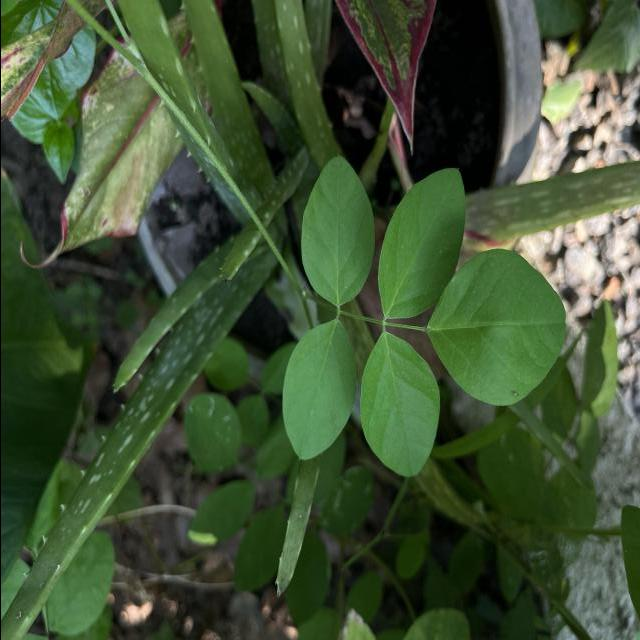Clitoria ternatea: (424, 248, 568, 408), (376, 168, 466, 320), (358, 330, 440, 480), (300, 154, 374, 308), (280, 318, 357, 462)
